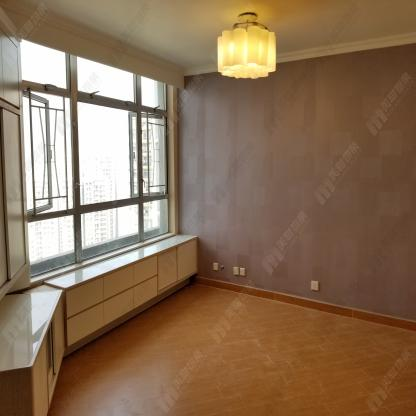Cupboard: (0, 6, 201, 416)
